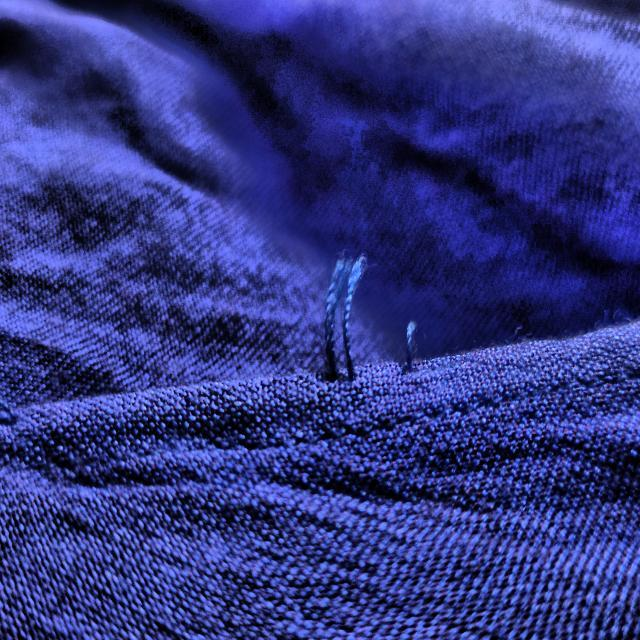gray stitch: (288, 240, 454, 404)
